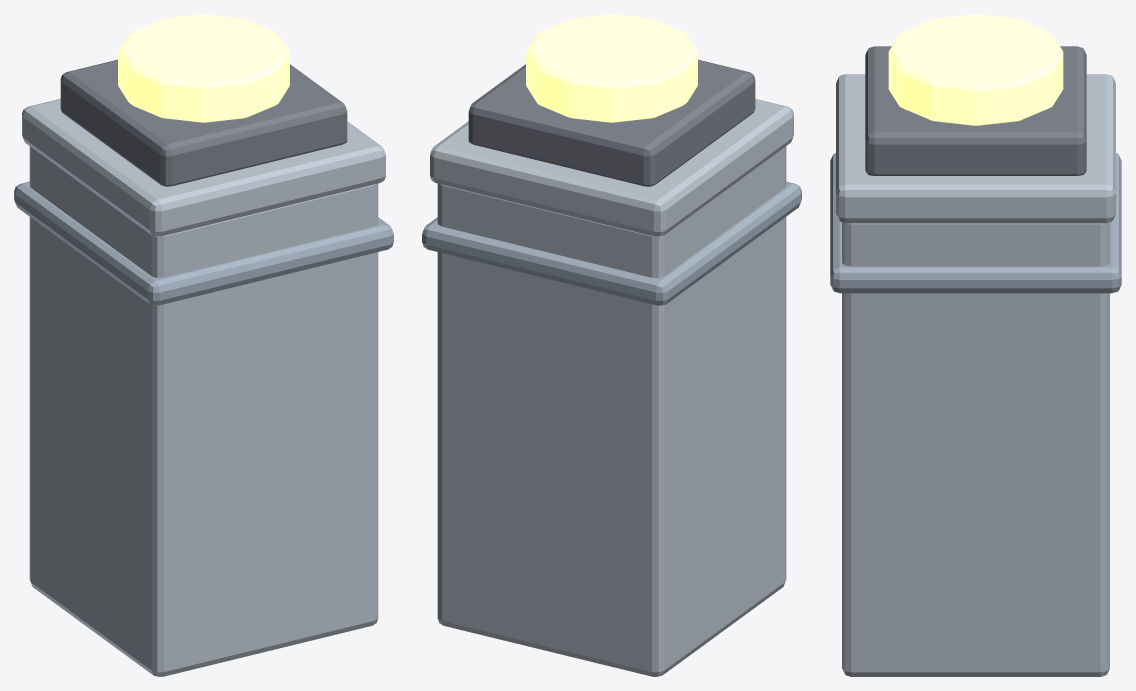
File: SideButton.fbx
3 renders of one model, left to right at view 1: azimuth 30°, elevation 25°; view 2: azimuth 150°, elevation 25°; view 3: azimuth 270°, elevation 25°, orthographic. The views are drawn at different scales.
Parts seen in each view (by area): view 1: Pedestal, TopPlate, ButtonHousing, YellowButton, Band; view 2: Pedestal, TopPlate, ButtonHousing, YellowButton, Band; view 3: Pedestal, TopPlate, ButtonHousing, YellowButton, Band.
Part boxes in pixels (bbox=[...]): Pedestal: bbox=[29, 146, 378, 676]; TopPlate: bbox=[22, 99, 385, 236]; ButtonHousing: bbox=[60, 59, 347, 186]; YellowButton: bbox=[118, 14, 289, 122]; Band: bbox=[14, 181, 393, 305]; Pedestal: bbox=[437, 146, 786, 676]; TopPlate: bbox=[430, 99, 793, 236]; ButtonHousing: bbox=[468, 59, 755, 186]; YellowButton: bbox=[526, 14, 697, 122]; Band: bbox=[422, 181, 801, 305]; Pedestal: bbox=[842, 222, 1109, 676]; TopPlate: bbox=[836, 74, 1115, 223]; ButtonHousing: bbox=[865, 46, 1086, 175]; YellowButton: bbox=[888, 14, 1063, 125]; Band: bbox=[830, 153, 1121, 293].
Bounding box in the file's own units: 1.25 × 2.72 × 1.25.
